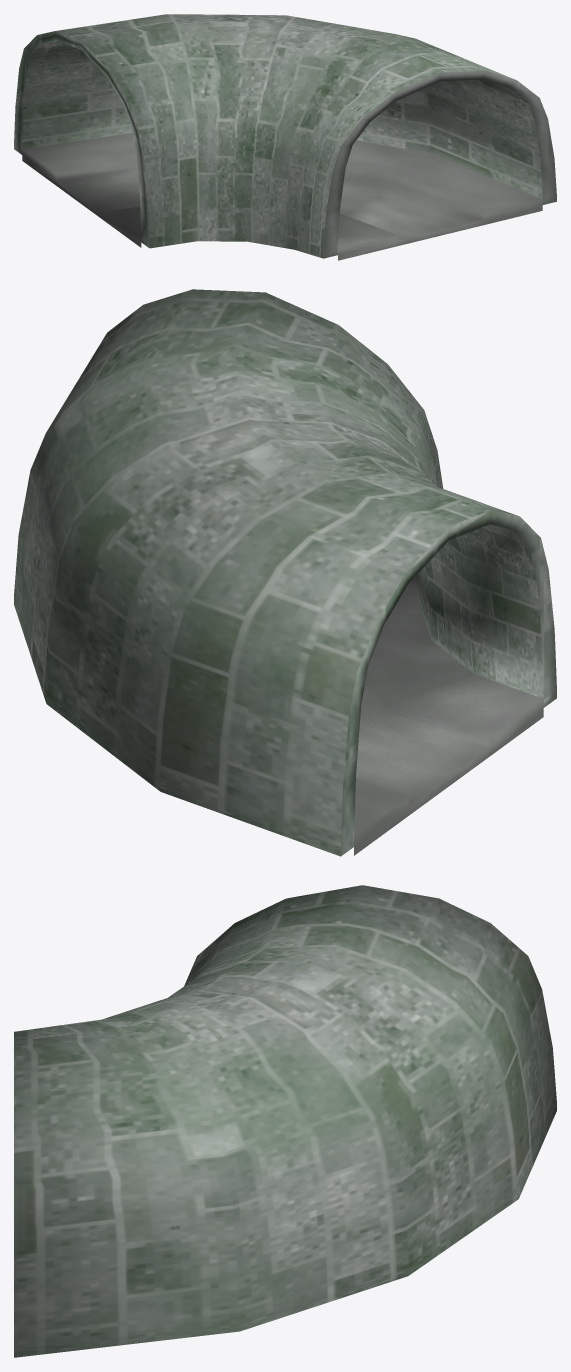
Rendered from Tunnel_Curve.glb.
3 views of the same model, one above another, from view 1: azimuth 30°, elevation 25°; view 2: azimuth 150°, elevation 25°; view 3: azimuth 270°, elevation 25° (orthographic). The views are drawn at different scales.
Visible parts, largest first — view 1: Tunnel_Curve; view 2: Tunnel_Curve; view 3: Tunnel_Curve.
Part boxes in pixels (left/top/right/bottom): Tunnel_Curve: left=14, top=14, right=556, bottom=260; Tunnel_Curve: left=14, top=289, right=556, bottom=856; Tunnel_Curve: left=14, top=885, right=556, bottom=1357.
Size of the model in its own units: 18.33 by 8.09 by 17.03.
1 material, 1 textured.
